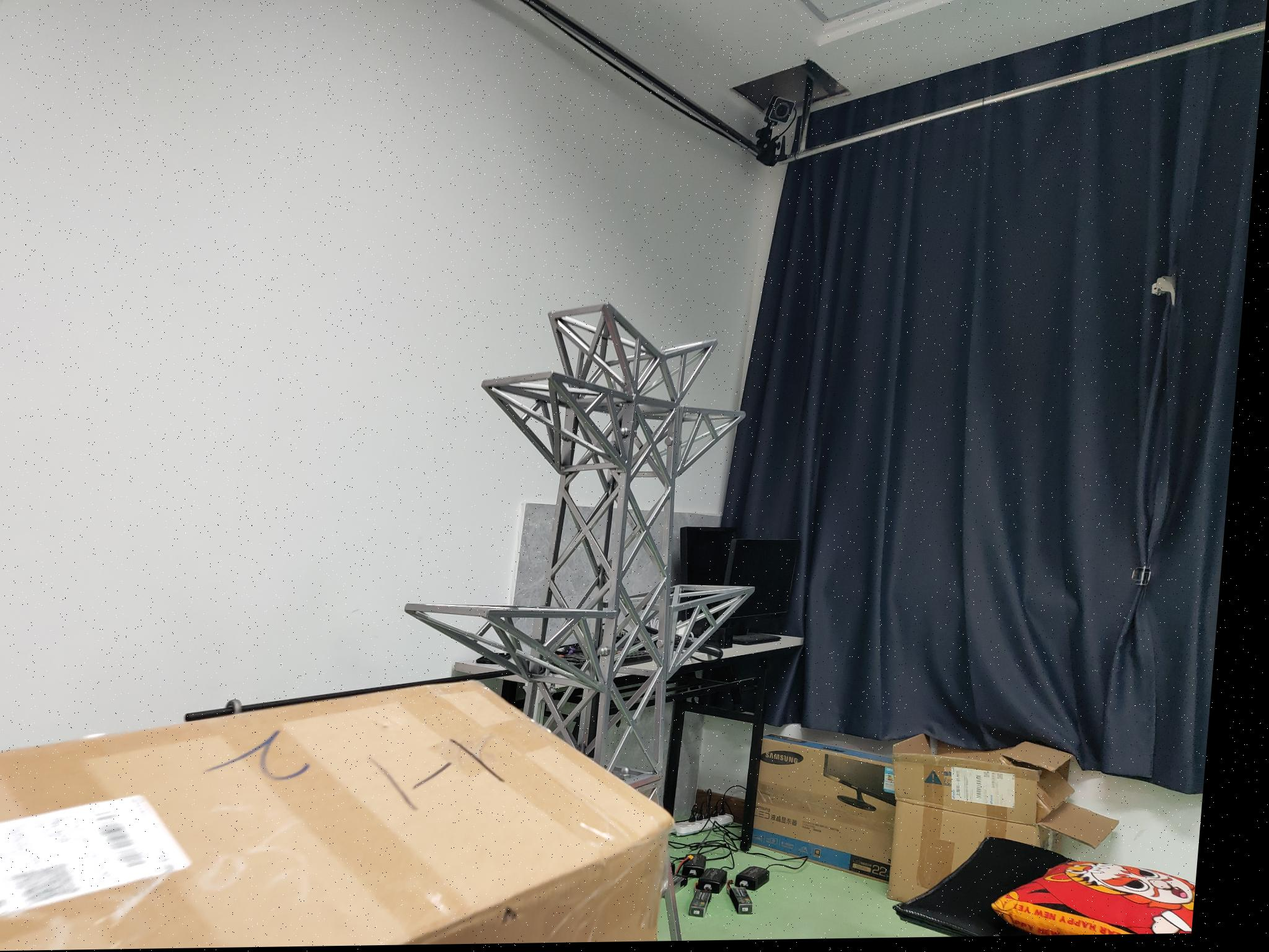tower: (395, 298, 777, 708)
